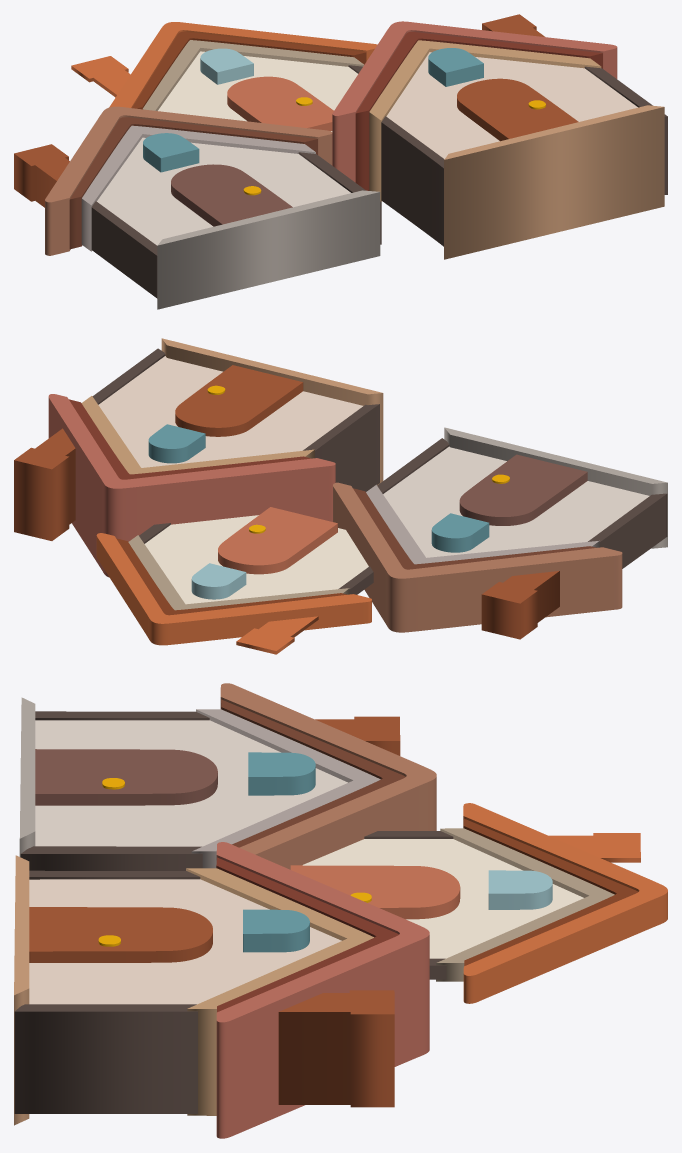
Rendered from emoji_u1f3d8.glb.
3 views of the same model, one above another, from view 1: azimuth 30°, elevation 25°; view 2: azimuth 150°, elevation 25°; view 3: azimuth 270°, elevation 25° (orthographic). The views are drawn at different scales.
Visible parts, largest first — view 1: emoji_u1f3d8; view 2: emoji_u1f3d8; view 3: emoji_u1f3d8.
Part boxes in pixels (<box>): emoji_u1f3d8: <box>14,14,667,309</box>; emoji_u1f3d8: <box>14,338,667,654</box>; emoji_u1f3d8: <box>14,683,667,1138</box>.
Bounding box in the file's own units: 0.0334 × 0.0058 × 0.0255.
